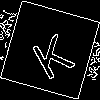K: (25, 25, 76, 81)
